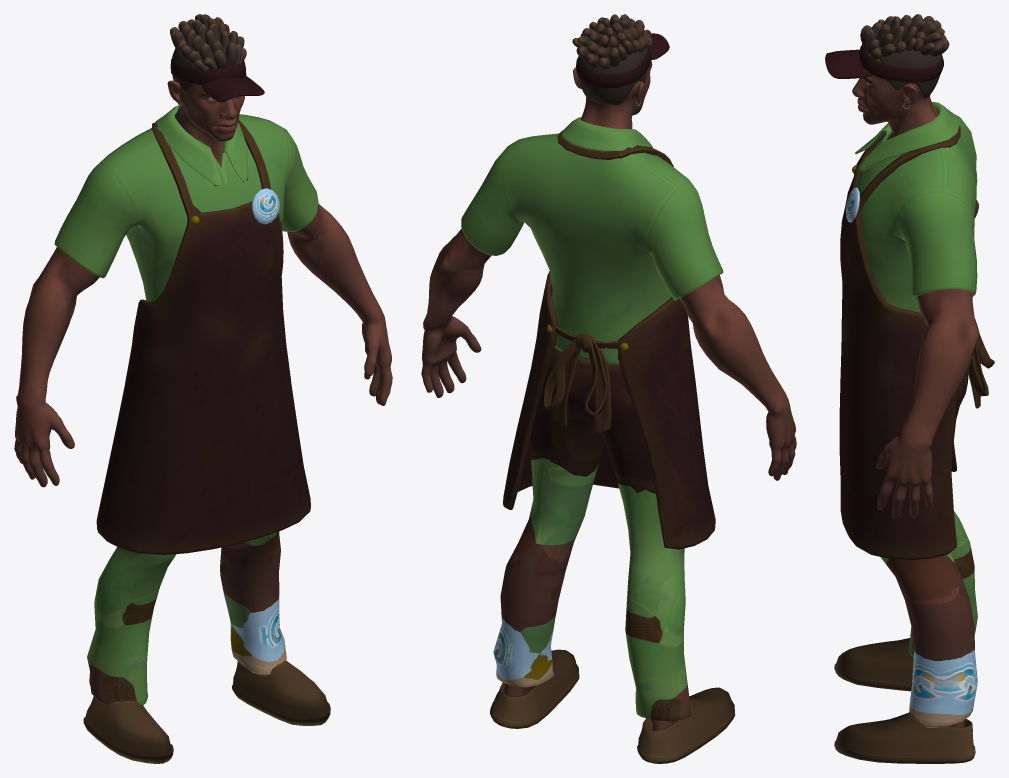
File: Barista_male_temp.fbx
3 renders of one model, left to right at view 1: azimuth 30°, elevation 25°; view 2: azimuth 150°, elevation 25°; view 3: azimuth 270°, elevation 25°, orthographic.
Parts seen in each view (by area): view 1: apron, cloth, male_cafe_body, pants, shoes, hair1, hat2, hat1, brooch; view 2: cloth, pants, apron, male_cafe_body, shoes, Knot2, hair1, hair2, hat1; view 3: apron, cloth, male_cafe_body, pants, shoes, hair1, hair2, hat1, hat2, Knot2, brooch.
Part boxes in pixels (left/top/right/bottom): apron: left=96, top=120, right=310, bottom=554; cloth: left=54, top=105, right=318, bottom=301; male_cafe_body: left=14, top=61, right=392, bottom=701; pants: left=87, top=531, right=286, bottom=705; shoes: left=83, top=660, right=330, bottom=763; hair1: left=170, top=14, right=246, bottom=71; hat2: left=201, top=76, right=264, bottom=102; hat1: left=170, top=58, right=246, bottom=84; brooch: left=252, top=188, right=279, bottom=224; cloth: left=461, top=117, right=723, bottom=364; pants: left=493, top=348, right=691, bottom=721; apron: left=503, top=130, right=715, bottom=549; male_cafe_body: left=421, top=62, right=796, bottom=730; shoes: left=490, top=649, right=735, bottom=763; Knot2: left=544, top=339, right=611, bottom=433; hair1: left=572, top=14, right=652, bottom=69; hair2: left=578, top=36, right=647, bottom=104; hat1: left=576, top=47, right=650, bottom=88; apron: left=839, top=112, right=960, bottom=560; cloth: left=855, top=102, right=977, bottom=312; male_cafe_body: left=852, top=53, right=978, bottom=727; pants: left=880, top=371, right=977, bottom=727; shoes: left=834, top=638, right=975, bottom=763; hair1: left=860, top=14, right=949, bottom=60; hair2: left=875, top=36, right=941, bottom=98; hat1: left=859, top=45, right=943, bottom=82; hat2: left=825, top=49, right=871, bottom=78; Knot2: left=967, top=319, right=994, bottom=408; brooch: left=846, top=187, right=859, bottom=222.
Bounding box in the file's own units: 103 × 190 × 41.55.
Materials: 2 (2 with a texture image).
